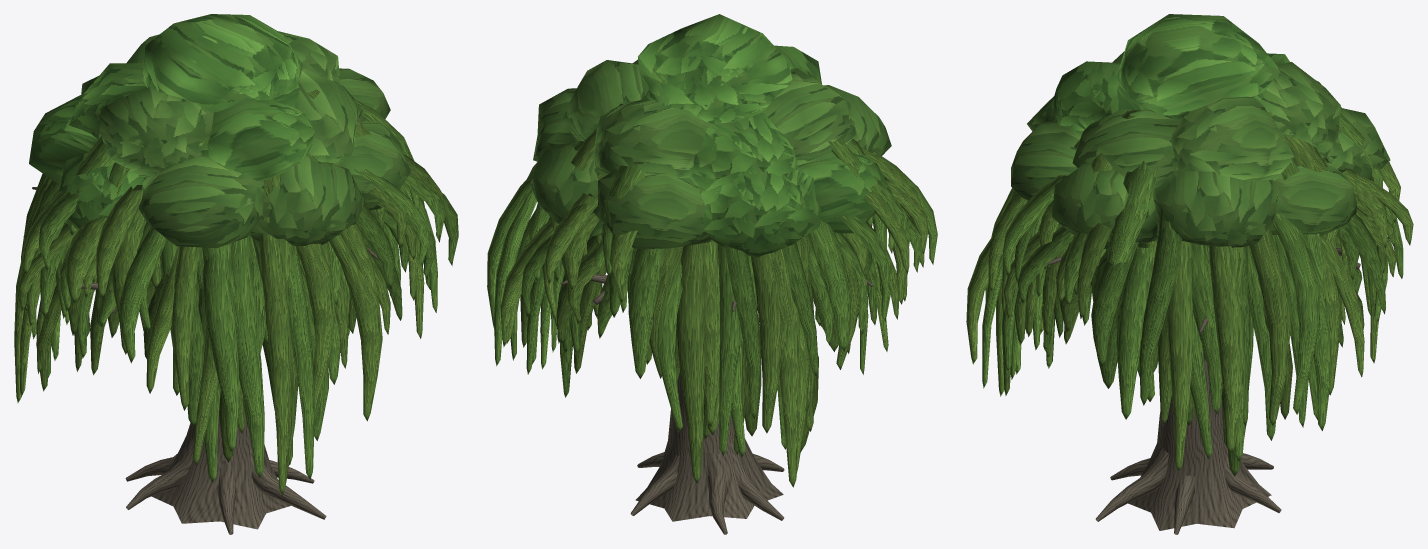
File: WeepingWillowTree.fbx
The picture shows the model from 3 angles, left to right: view 1: azimuth 30°, elevation 25°; view 2: azimuth 150°, elevation 25°; view 3: azimuth 270°, elevation 25°; orthographic projection. The views are drawn at different scales.
Visible parts, largest first — view 1: WeepingWillowTree_Foliage, WeepingWillowTree_Bark; view 2: WeepingWillowTree_Foliage, WeepingWillowTree_Bark; view 3: WeepingWillowTree_Foliage, WeepingWillowTree_Bark.
Part boxes in pixels (x1,y1,x2,y2): WeepingWillowTree_Foliage: (14, 14, 458, 495); WeepingWillowTree_Bark: (32, 186, 378, 534); WeepingWillowTree_Foliage: (487, 14, 937, 487); WeepingWillowTree_Bark: (560, 265, 873, 534); WeepingWillowTree_Foliage: (966, 14, 1413, 476); WeepingWillowTree_Bark: (1048, 247, 1360, 534).
Size of the model in its own units: 12.4 by 14.48 by 12.34.
Materials: 2 (2 with a texture image).
